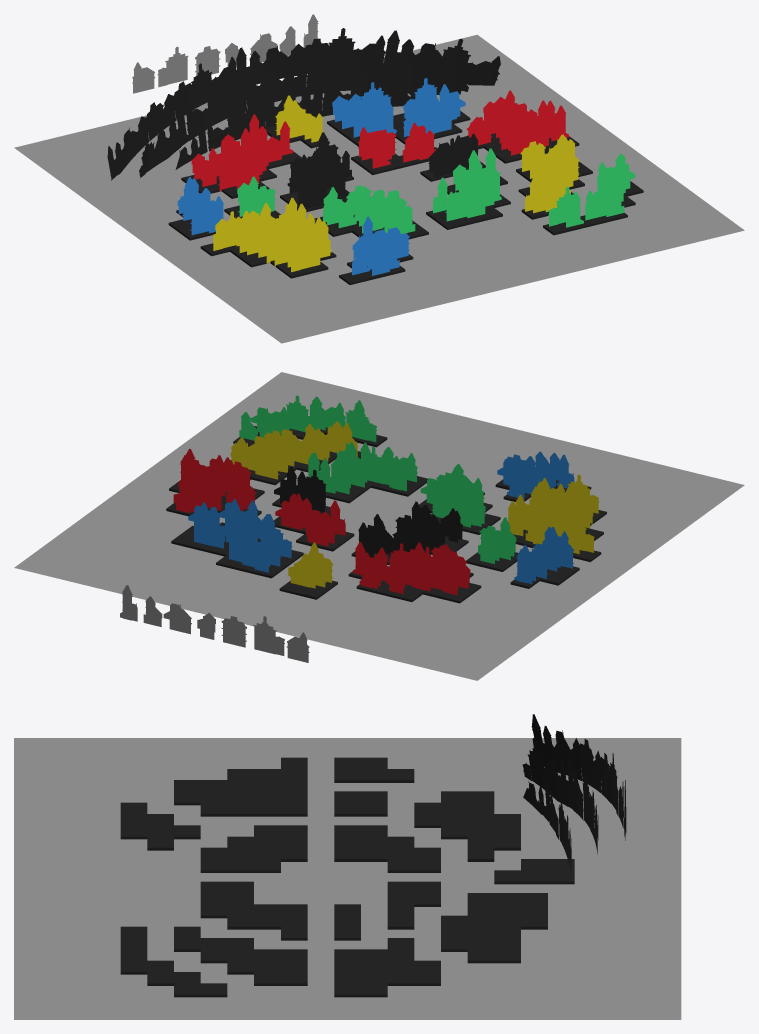
The model's file is environment.FBX.
3 renders of one model, top to bottom at view 1: azimuth 30°, elevation 25°; view 2: azimuth 150°, elevation 25°; view 3: azimuth 270°, elevation 25°, orthographic. The views are drawn at different scales.
Parts seen in each view (by area): view 1: Plane003, Object001, Building_Church_027, Building_Church_033, Building_Church_007, Building_Church_013, Building_Church_030, Building_Church_026, Building_Church_031, Building_Church_008, Building_City_Hall_055, Building_Church_015 (+7 smaller); view 2: Plane003, Object001, Building_Church_007, Building_Church_021, Building_Church_014, Building_Church_009, Building_Church_035, Building_City_Hall_005, Building_City_Hall_029, Building_Civ_003, Building_Church_020, Building_Civ_009 (+1 smaller); view 3: Plane003, Object001, Building_Church_029, Building_City_Hall_062.
Boxes of the visible parts, left/top/right/bottom form: Plane003: left=14, top=34, right=744, bottom=343; Object001: left=168, top=111, right=643, bottom=284; Building_Church_027: left=326, top=48, right=361, bottom=90; Building_Church_033: left=439, top=38, right=477, bottom=84; Building_Church_007: left=157, top=46, right=188, bottom=87; Building_Church_013: left=290, top=232, right=321, bottom=272; Building_Church_030: left=327, top=28, right=363, bottom=71; Building_Church_026: left=201, top=82, right=227, bottom=130; Building_Church_031: left=191, top=63, right=220, bottom=108; Building_Church_008: left=433, top=138, right=463, bottom=177; Building_City_Hall_055: left=397, top=59, right=427, bottom=93; Building_Church_015: left=213, top=211, right=241, bottom=250; Plane003: left=14, top=372, right=744, bottom=680; Object001: left=166, top=426, right=606, bottom=603; Building_Church_007: left=253, top=616, right=284, bottom=655; Building_Church_021: left=193, top=509, right=224, bottom=548; Building_Church_014: left=345, top=403, right=376, bottom=442; Building_Church_009: left=362, top=447, right=391, bottom=484; Building_Church_035: left=286, top=395, right=317, bottom=432; Building_City_Hall_005: left=221, top=616, right=246, bottom=647; Building_City_Hall_029: left=254, top=449, right=279, bottom=479; Building_Civ_003: left=163, top=603, right=191, bottom=634; Building_Church_020: left=260, top=519, right=292, bottom=558; Building_Civ_009: left=275, top=500, right=303, bottom=530; Plane003: left=14, top=738, right=681, bottom=1019; Object001: left=120, top=757, right=574, bottom=997; Building_Church_029: left=522, top=738, right=545, bottom=790; Building_City_Hall_062: left=578, top=739, right=594, bottom=788.
Size of the model in its own units: 800 by 140 by 876.
